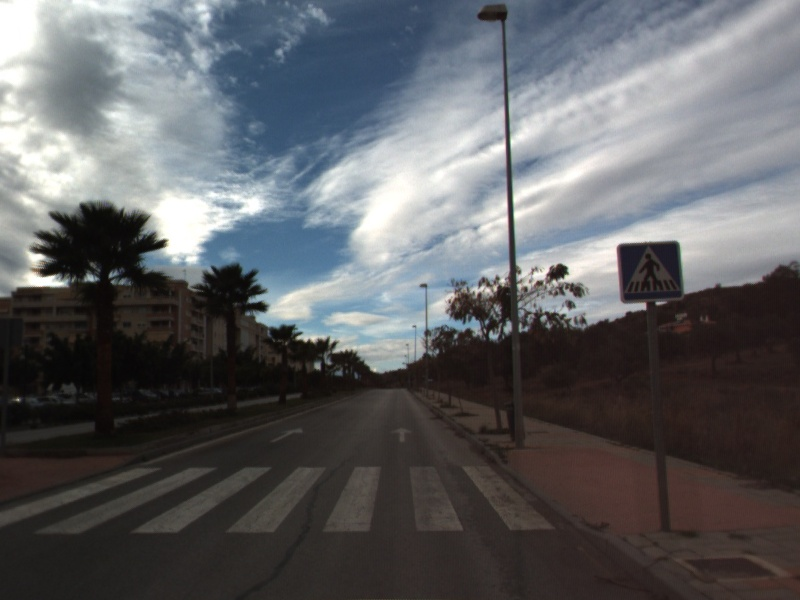STRAIGHT: (268, 426, 305, 444), (389, 425, 414, 444)
